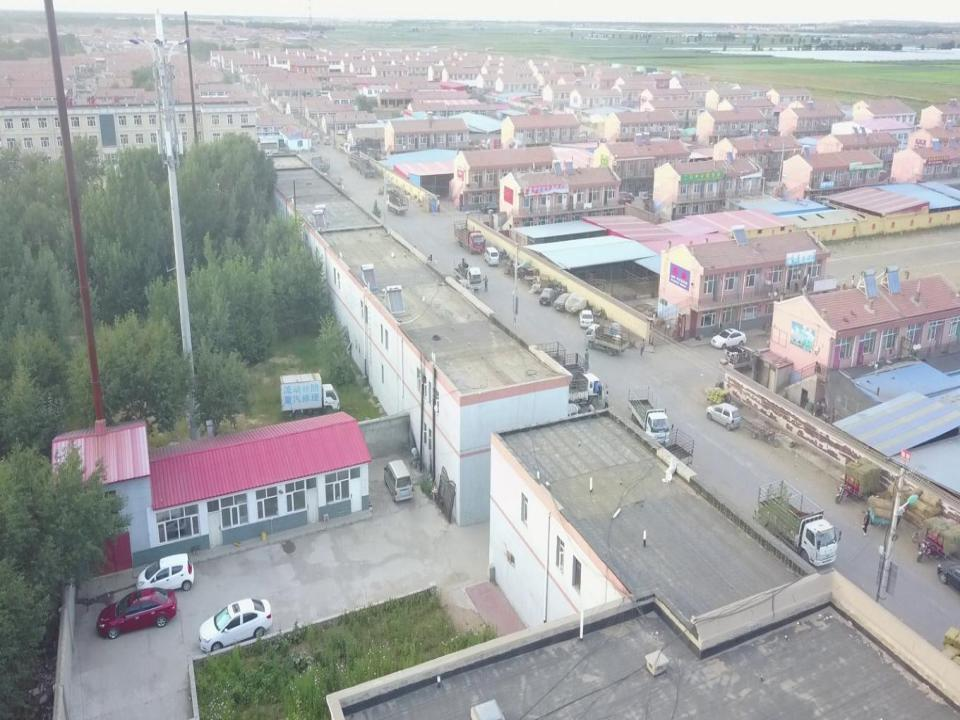car: (97, 587, 178, 639), (198, 598, 273, 648), (138, 555, 194, 589), (712, 328, 748, 348), (566, 294, 590, 314), (554, 292, 575, 312), (539, 286, 556, 305), (579, 309, 594, 329), (384, 182, 395, 194)
truck: (754, 477, 844, 577), (630, 430, 697, 480), (628, 385, 674, 450), (280, 373, 339, 418), (532, 370, 604, 406), (504, 341, 567, 374), (525, 352, 589, 383), (583, 322, 630, 355), (454, 219, 486, 256), (454, 259, 482, 291), (725, 346, 755, 372), (347, 138, 381, 158), (386, 193, 408, 215), (347, 150, 369, 170), (359, 158, 376, 179), (338, 138, 351, 152)
van: (383, 459, 414, 503), (706, 398, 740, 432), (484, 246, 499, 266)
